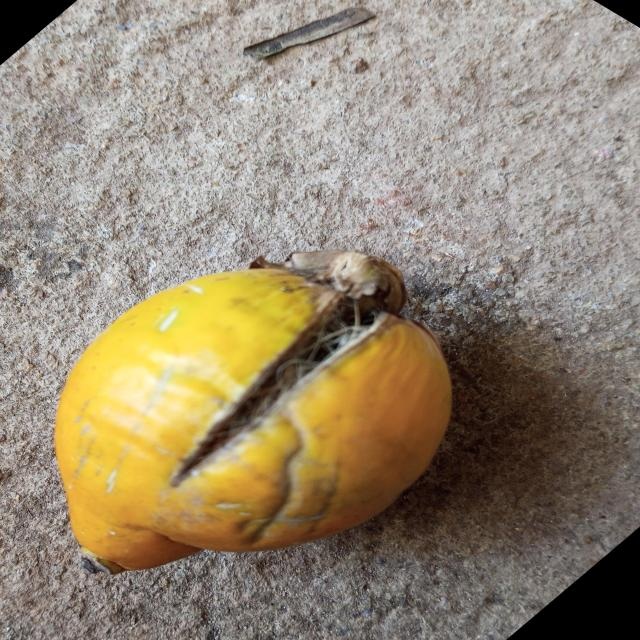damaged: (55, 251, 451, 574)
